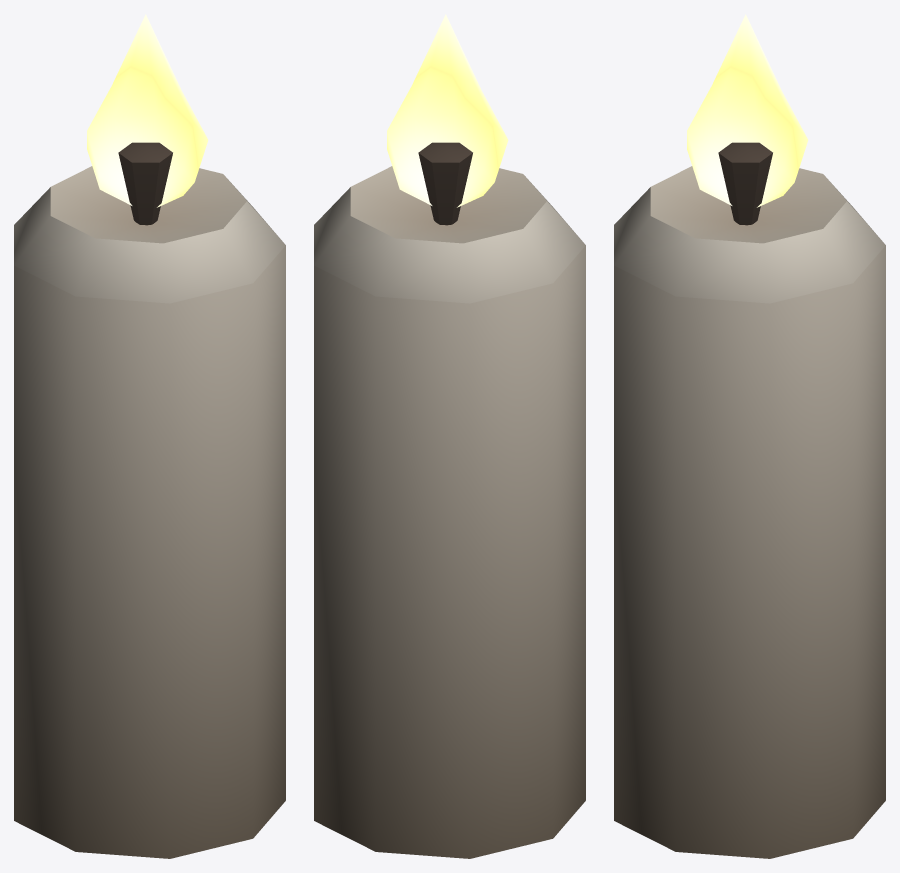
File: candle-lit.glb
The picture shows the model from 3 angles, left to right: view 1: azimuth 30°, elevation 25°; view 2: azimuth 150°, elevation 25°; view 3: azimuth 270°, elevation 25°; orthographic projection.
Visible parts, largest first — view 1: candle-lit; view 2: candle-lit; view 3: candle-lit.
Boxes of the visible parts, bbox=[...] form: candle-lit: bbox=[14, 14, 285, 858]; candle-lit: bbox=[314, 14, 585, 858]; candle-lit: bbox=[614, 14, 885, 858].
Bounding box in the file's own units: 0.0954 × 0.3 × 0.094.
